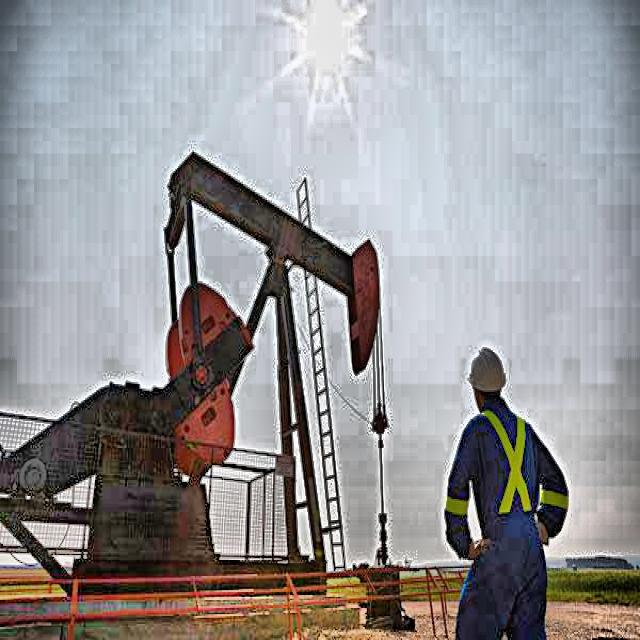helmet: (464, 334, 512, 421)
